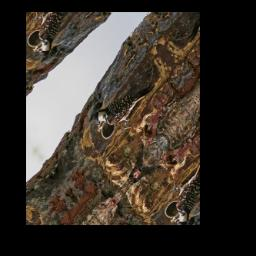Woodpecker: (90, 63, 160, 149)
